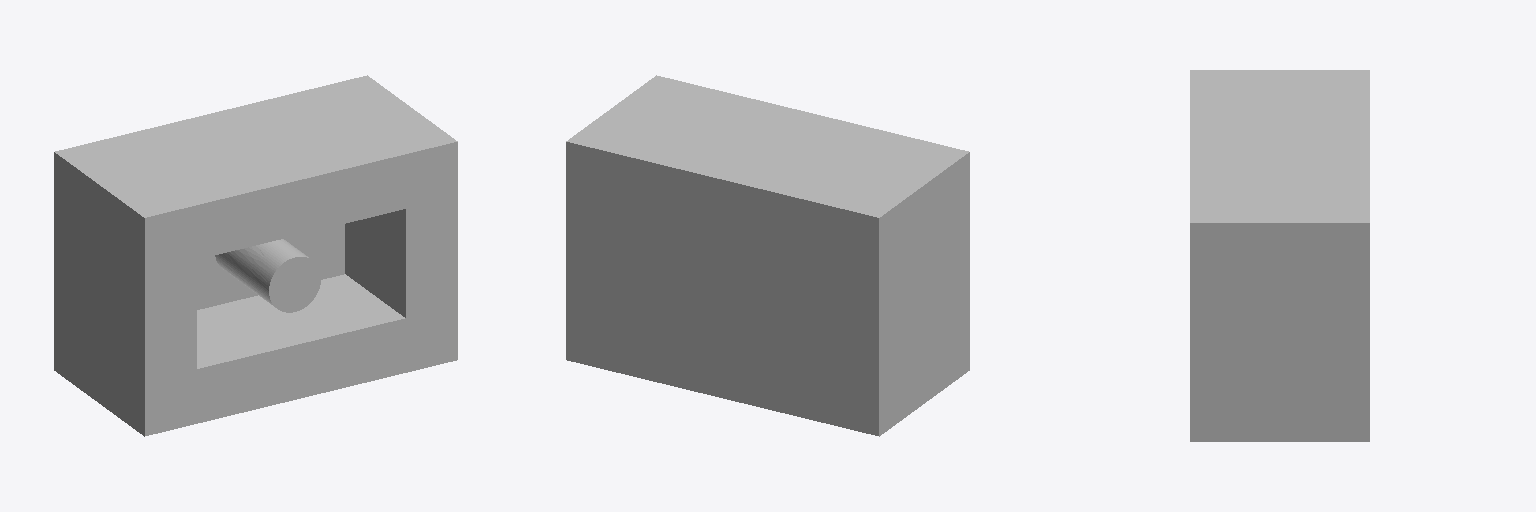
File: tank29.obj
The picture shows the model from 3 angles: view 1: azimuth 30°, elevation 25°; view 2: azimuth 150°, elevation 25°; view 3: azimuth 270°, elevation 25°; orthographic projection.
Size of the model in its own units: 3 by 2 by 1.5.